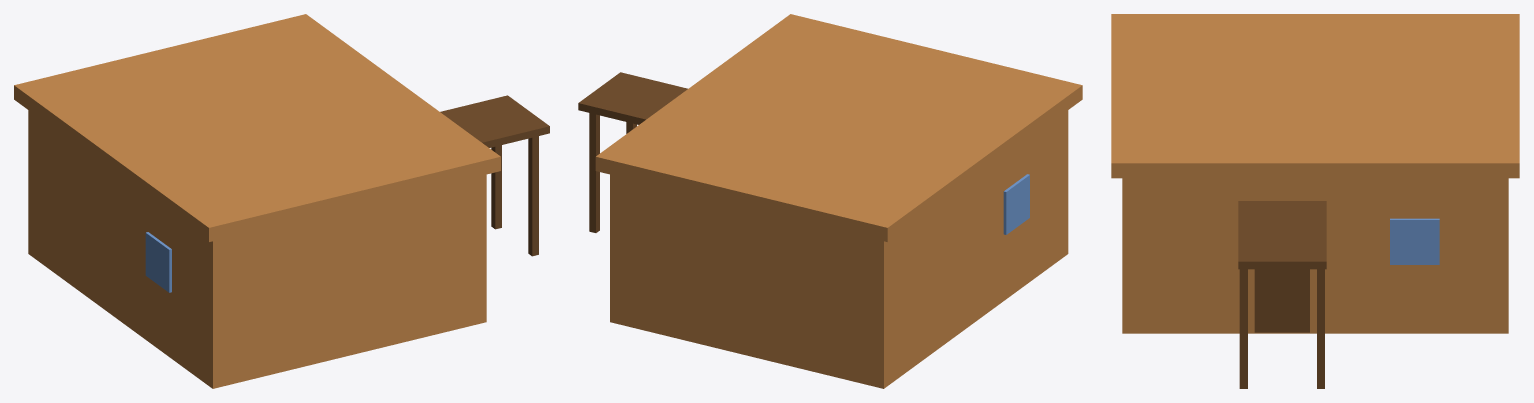
File: casa_adobe.obj
3 views of the same model, side by side, from view 1: azimuth 30°, elevation 25°; view 2: azimuth 150°, elevation 25°; view 3: azimuth 270°, elevation 25° (orthographic). The views are drawn at different scales.
Parts seen in each view (by area): view 1: casa_adobe; view 2: casa_adobe; view 3: casa_adobe.
Boxes of the visible parts, box(x1,y1,x2,y2) form: casa_adobe: box(14, 14, 549, 388); casa_adobe: box(578, 14, 1082, 388); casa_adobe: box(1111, 14, 1519, 388).
Size of the model in its own units: 8.8 by 3.5 by 7.4.
